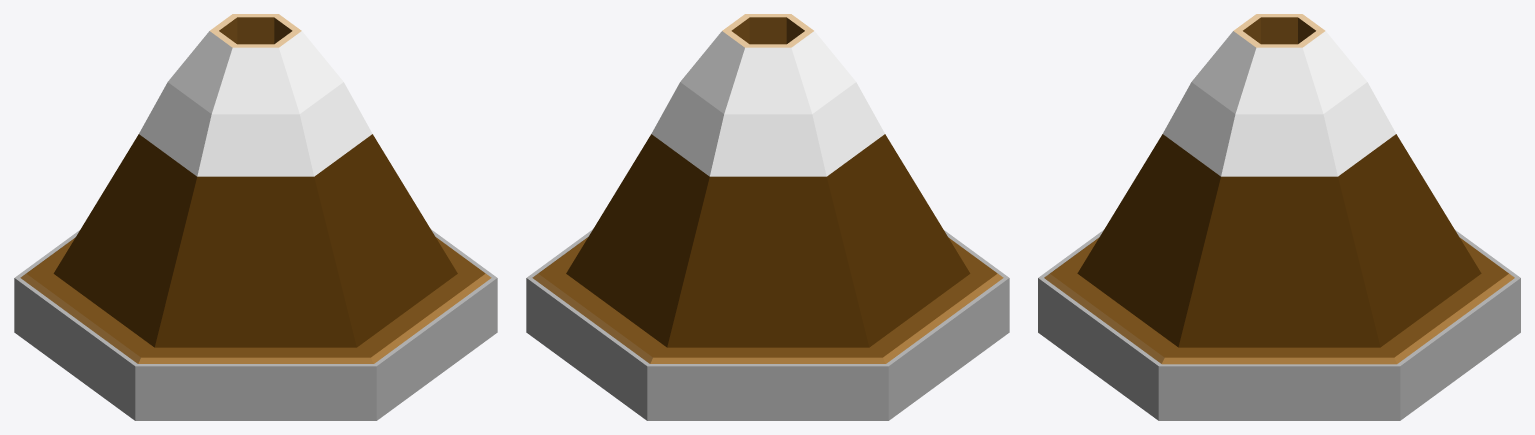
Rendered from Provinces_VolcanCotopaxi.fbx.
The picture shows the model from 3 angles, left to right: view 1: azimuth 30°, elevation 25°; view 2: azimuth 150°, elevation 25°; view 3: azimuth 270°, elevation 25°; orthographic projection.
Visible parts, largest first — view 1: 4.Cotopaxi; view 2: 4.Cotopaxi; view 3: 4.Cotopaxi.
Part boxes in pixels (x1=…): 4.Cotopaxi: x1=14, y1=14, x2=497, y2=420; 4.Cotopaxi: x1=526, y1=14, x2=1009, y2=420; 4.Cotopaxi: x1=1038, y1=14, x2=1520, y2=420.
Size of the model in its own units: 173 by 138 by 200.
